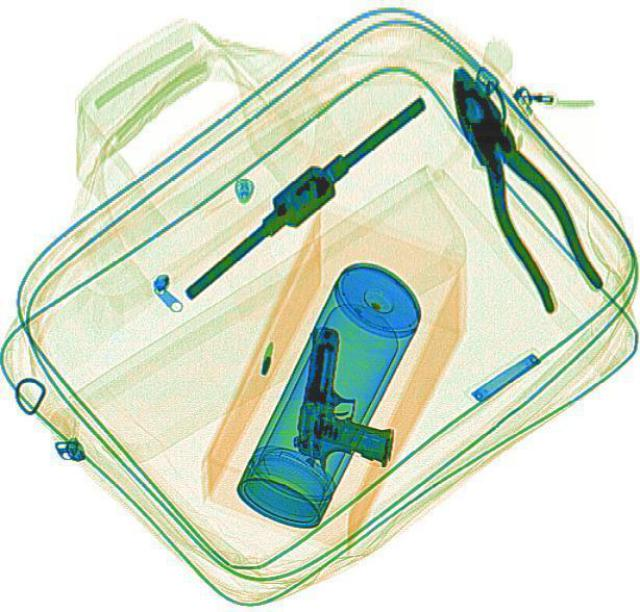Gun: (286, 320, 408, 477)
Pliers: (419, 54, 609, 312)
